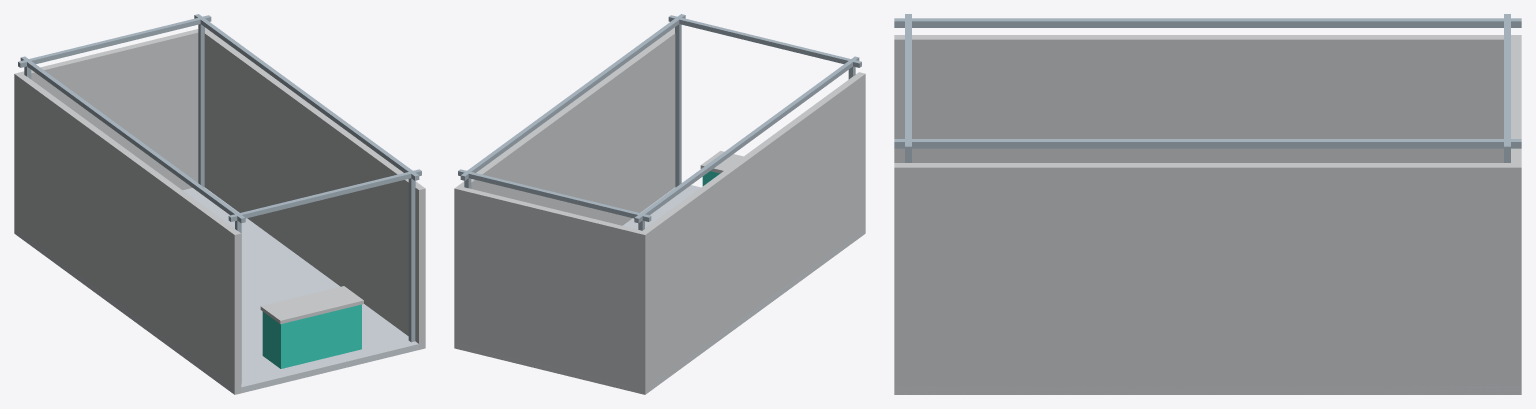
3 views of the same model, side by side, from view 1: azimuth 30°, elevation 25°; view 2: azimuth 150°, elevation 25°; view 3: azimuth 270°, elevation 25° (orthographic). The views are drawn at different scales.
Visible parts, largest first — view 1: Exhibition Booth Concept; view 2: Exhibition Booth Concept; view 3: Exhibition Booth Concept.
Boxes of the visible parts, <box> form: Exhibition Booth Concept: <box>14,14,425,394</box>; Exhibition Booth Concept: <box>454,14,865,394</box>; Exhibition Booth Concept: <box>894,14,1521,394</box>.
Size of the model in its own units: 4 by 3.49 by 8.
